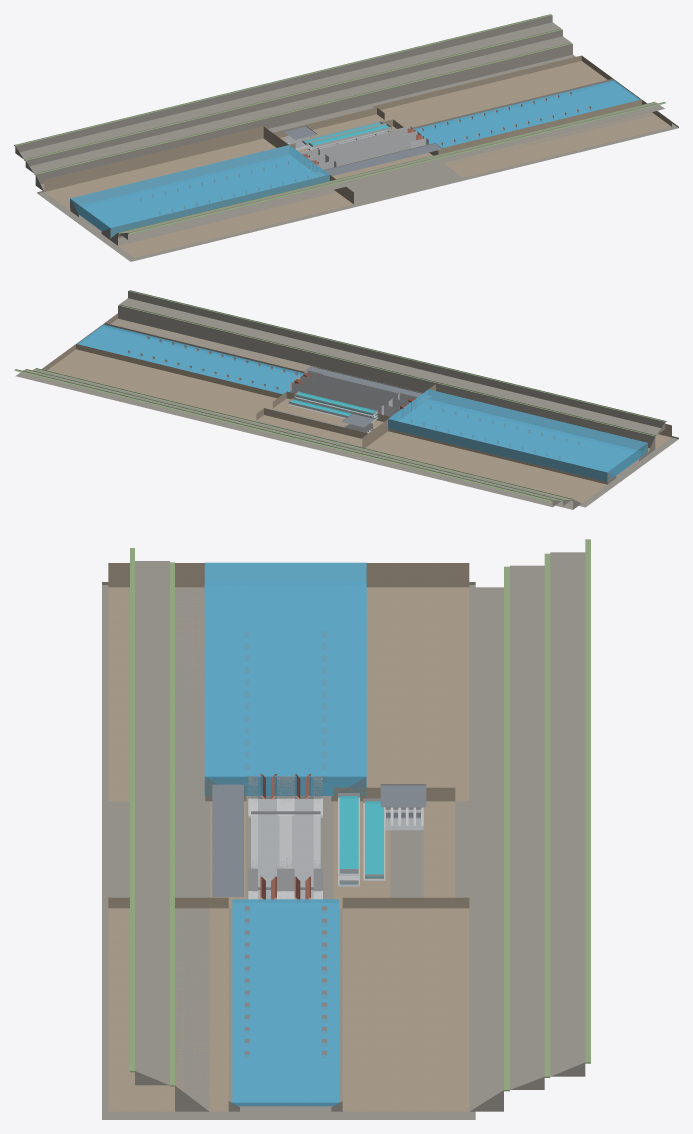
File: qishi-low.glb
3 renders of one model, top to bottom at view 1: azimuth 30°, elevation 25°; view 2: azimuth 150°, elevation 25°; view 3: azimuth 270°, elevation 25°, orthographic. The views are drawn at different scales.
Parts seen in each view (by area): view 1: rock_terrain, earth_terrain, water_water, grass_terrain, concrete_structure, earth_structure, road_aux, concrete_pool, poolWater_pool, concreteLight_structure; view 2: rock_terrain, earth_terrain, water_water, grass_terrain, concrete_structure, earth_structure, road_aux, concrete_pool, poolWater_pool, concreteLight_structure; view 3: rock_terrain, earth_terrain, water_water, grass_terrain, road_aux, concreteDark_structure, earth_structure, concrete_structure, poolWater_pool, concreteLight_structure, concrete_pool, gate_gate.
Boxes of the visible parts, box(x1,y1,x2,y2) form: rock_terrain: box(15, 15, 678, 261); earth_terrain: box(44, 55, 671, 257); water_water: box(70, 80, 640, 237); grass_terrain: box(14, 14, 665, 234); concrete_structure: box(138, 92, 590, 214); earth_structure: box(273, 107, 438, 179); road_aux: box(283, 125, 442, 176); concrete_pool: box(301, 121, 391, 150); poolWater_pool: box(304, 122, 390, 146); concreteLight_structure: box(286, 126, 428, 167); rock_terrain: box(15, 291, 678, 509); earth_terrain: box(44, 313, 671, 503); water_water: box(77, 324, 647, 481); grass_terrain: box(14, 290, 666, 501); concrete_structure: box(127, 336, 579, 458); earth_structure: box(256, 367, 422, 446); road_aux: box(304, 366, 430, 427); concrete_pool: box(288, 390, 378, 420); poolWater_pool: box(291, 392, 377, 418); concreteLight_structure: box(289, 370, 417, 432); rock_terrain: box(102, 552, 585, 1119); earth_terrain: box(108, 563, 469, 1111); water_water: box(204, 562, 366, 1106); grass_terrain: box(130, 539, 590, 1091); road_aux: box(212, 779, 426, 896); concreteDark_structure: box(248, 796, 423, 899); earth_structure: box(209, 784, 455, 908); concrete_structure: box(244, 631, 326, 1057); poolWater_pool: box(339, 796, 383, 884); concreteLight_structure: box(248, 776, 423, 899); concrete_pool: box(338, 793, 385, 884); gate_gate: box(260, 774, 310, 899).
Bounding box in the file's own units: 2000 × 91 × 772.
Materials: 11 (11 with a texture image).
